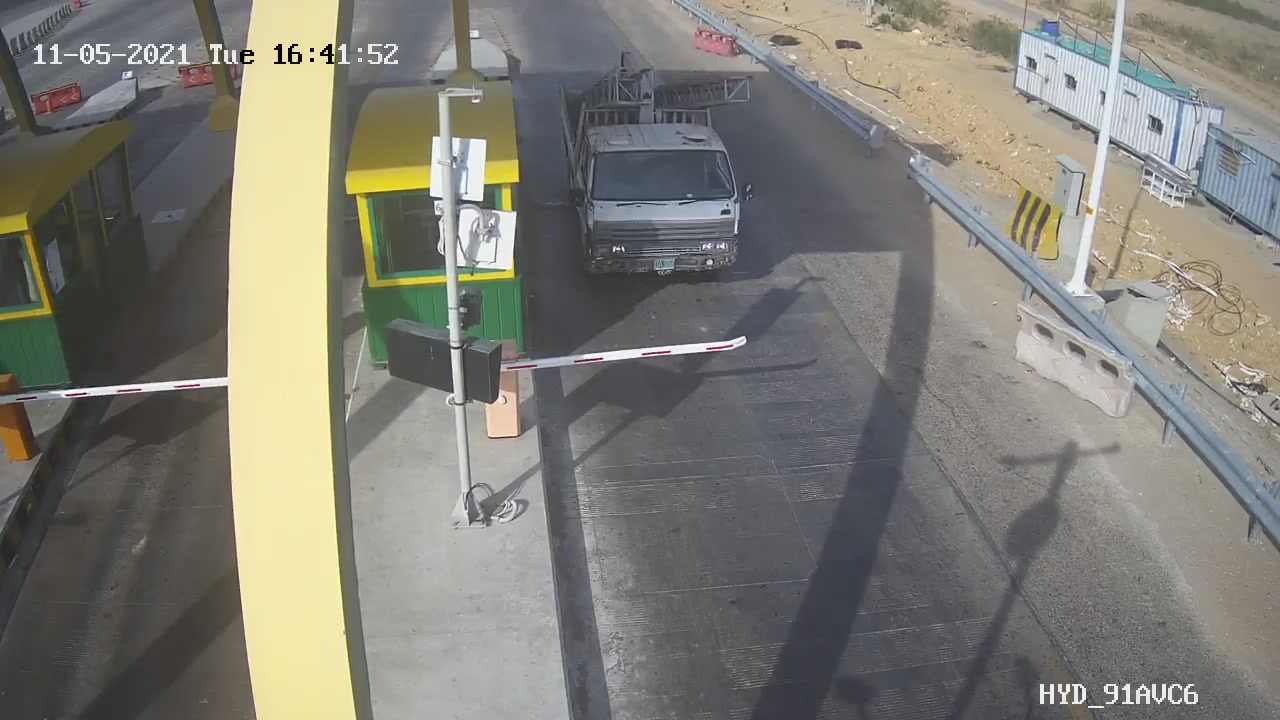F3: (542, 46, 773, 296)
